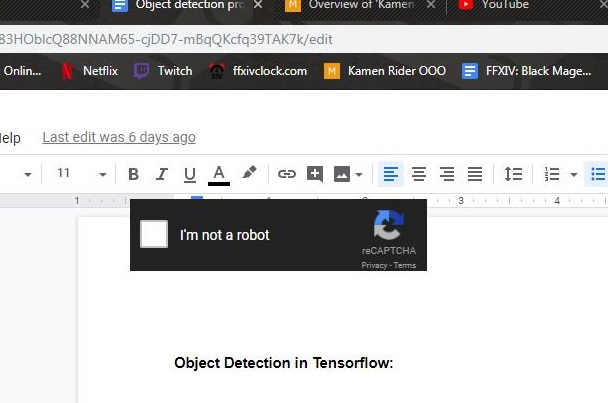captcha: (140, 219, 275, 248)
